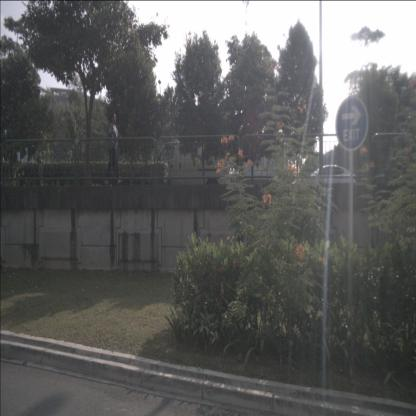human-pedestrian-adult: (103, 112, 124, 186)
vehicle-car: (154, 139, 240, 193), (298, 164, 356, 197)
